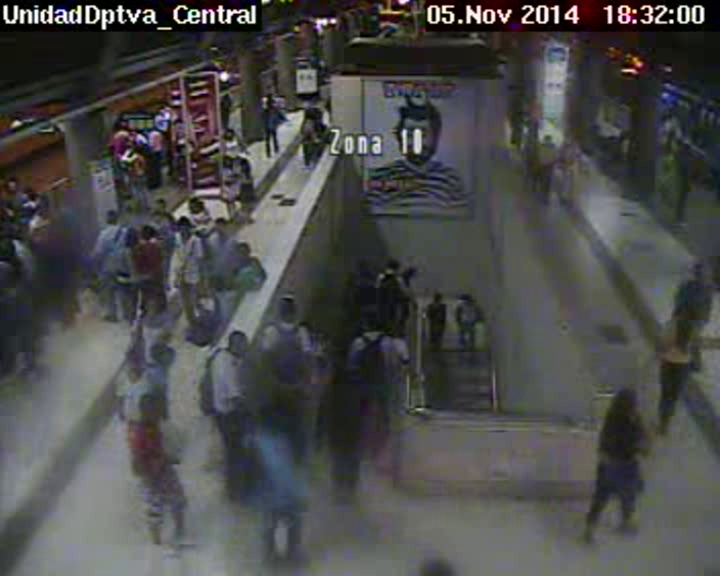person: (609, 388, 638, 418), (122, 346, 149, 375), (222, 330, 249, 358), (135, 395, 160, 423), (274, 293, 300, 318), (672, 300, 694, 323), (336, 355, 357, 376), (174, 218, 195, 239), (263, 395, 283, 417), (691, 263, 706, 286), (367, 312, 384, 331), (213, 217, 230, 235), (187, 195, 204, 212), (151, 341, 168, 357), (103, 209, 119, 226), (236, 241, 252, 257), (141, 224, 156, 241), (118, 228, 133, 245), (37, 197, 51, 214), (155, 196, 168, 211), (8, 179, 20, 195), (26, 187, 39, 201), (387, 260, 400, 273), (360, 260, 373, 273), (128, 144, 141, 157), (403, 268, 415, 282), (225, 126, 237, 140), (678, 143, 690, 156), (221, 153, 232, 165), (240, 155, 250, 168), (462, 294, 473, 305), (543, 133, 554, 143), (434, 293, 444, 304), (131, 126, 142, 136), (157, 106, 169, 115), (265, 95, 275, 105), (303, 108, 313, 118), (512, 86, 522, 96), (564, 134, 572, 146), (118, 121, 126, 132), (529, 95, 538, 104), (148, 125, 158, 132), (225, 94, 229, 98)
